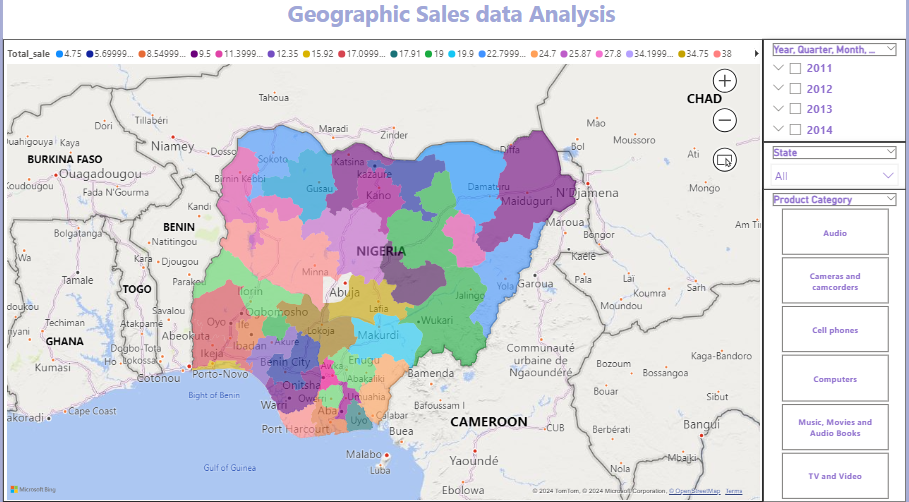

The page's visual inventory and layout, read from the dashboard file:
{"tool":"powerbi","page":{"name":"Reginal Sales Analysis","canvas":[1280,720],"ordinal":1},"visuals":[{"type":"filledMap","title":"Sales Analysis By State","fields":{"Category":["Sales_State.State"],"Series":["Sales_Data.Total_sale"]},"box":[0,64.2,1077.4,656.4],"z":0},{"type":"textbox","box":[0,0,1280,64.2],"z":1},{"type":"slicer","fields":{"Values":["Sales_Data.Order Date.Variation.Date Hierarchy.Year","Sales_Data.Order Date.Variation.Date Hierarchy.Quarter","Sales_Data.Order Date.Variation.Date Hierarchy.Month","Sales_Data.Order Date.Variation.Date Hierarchy.Day"]},"box":[1077.4,64.2,202.6,145.6],"z":2},{"type":"slicer","fields":{"Values":["Sales_State.State"]},"box":[1077.4,209.8,202.6,82.8],"z":3},{"type":"slicer","fields":{"Values":["Sales_Product_Sub_Cat.Product Category"]},"box":[1077.4,276.8,202.6,443.8],"z":4}]}

Visuals, with their boxes in screenshot pixels (x1, y1, x2, y2), scaled from the page's 1280x720 canvas onto the 909x502 screenshot:
"Sales Analysis By State" filledMap: Rect(0, 45, 765, 501)
textbox: Rect(0, 0, 908, 45)
slicer - Sales_Data.Order Date.Variation.Date Hierarchy.Year x Sales_Data.Order Date.Variation.Date Hierarchy.Quarter: Rect(765, 45, 908, 146)
slicer - Sales_State.State: Rect(765, 146, 908, 204)
slicer - Sales_Product_Sub_Cat.Product Category: Rect(765, 193, 908, 501)
